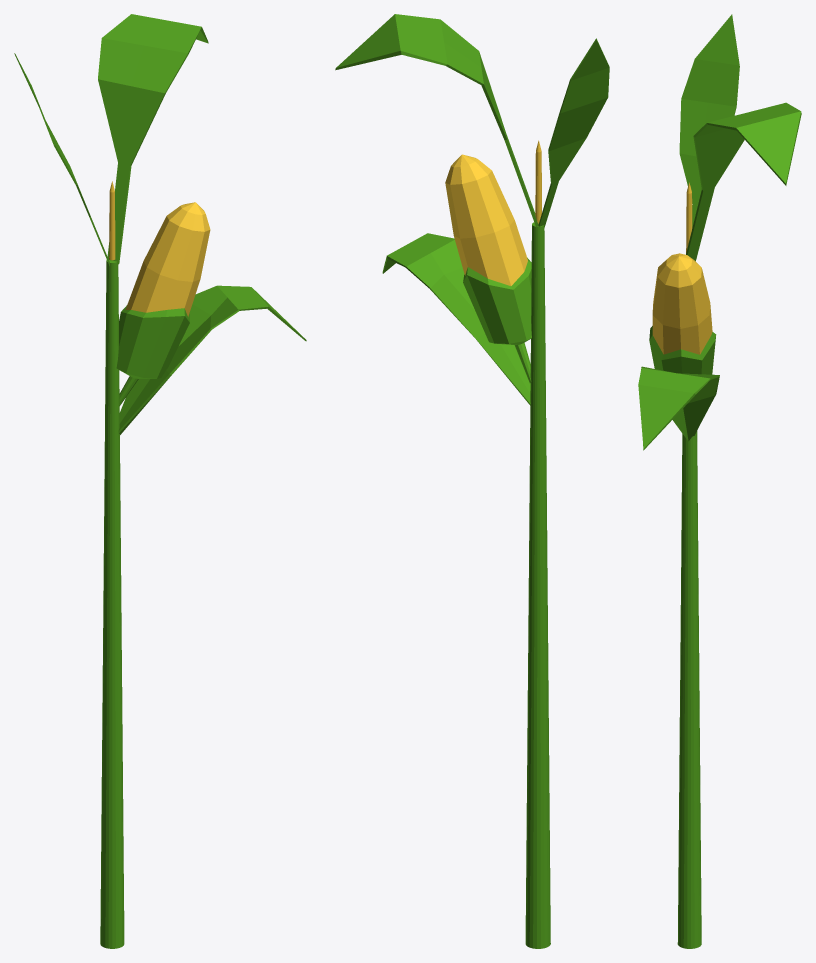
Rendered from Isl_3_Corn_3.fbx.
3 views of the same model, side by side, from view 1: azimuth 30°, elevation 25°; view 2: azimuth 150°, elevation 25°; view 3: azimuth 270°, elevation 25° (orthographic). The views are drawn at different scales.
Visible parts, largest first — view 1: Isl_3_Corn_3; view 2: Isl_3_Corn_3; view 3: Isl_3_Corn_3.
Part boxes in pixels (bbox=[...]): Isl_3_Corn_3: bbox=[14, 14, 306, 948]; Isl_3_Corn_3: bbox=[335, 14, 609, 948]; Isl_3_Corn_3: bbox=[638, 14, 801, 948].
Bounding box in the file's own units: 67.78 × 38.8 × 234.
1 material, 1 textured.
